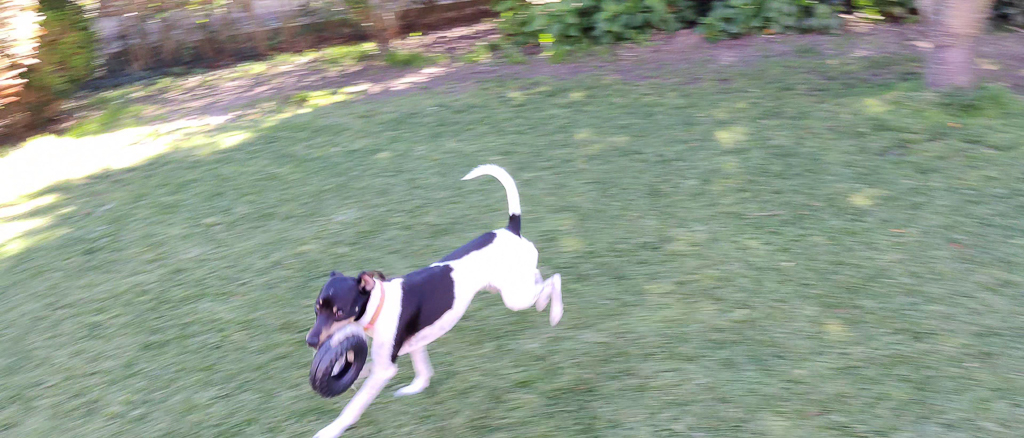Dog: (289, 153, 572, 438)
